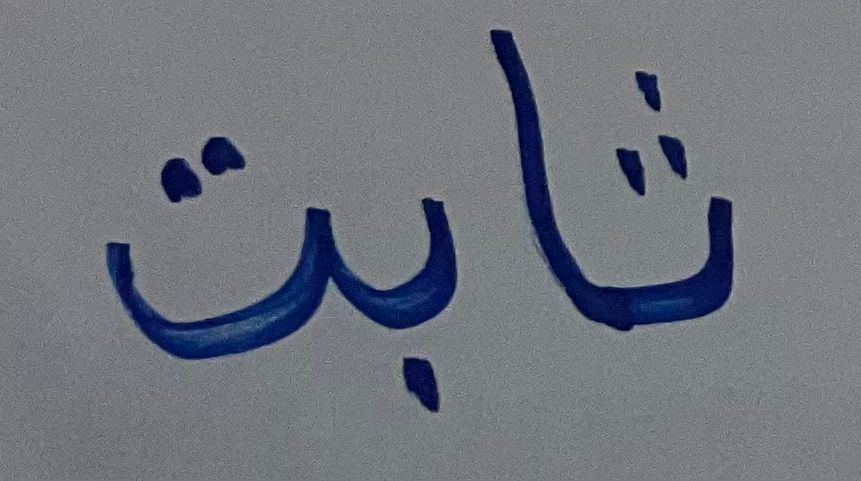alef: (479, 27, 593, 360)
beh: (345, 181, 471, 421)
teh: (79, 122, 340, 383)
theh: (597, 51, 758, 362)
